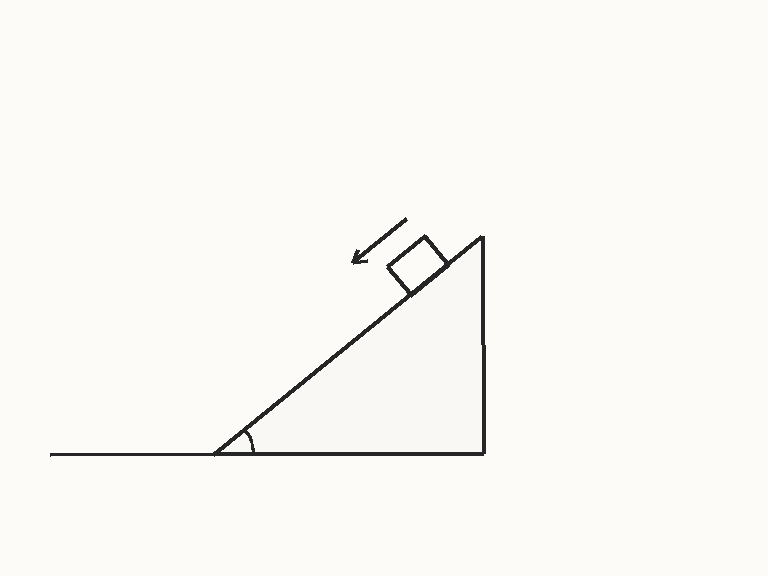block: (385, 234, 450, 297)
ramp: (211, 234, 485, 456)
